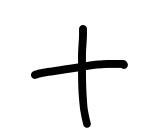plus: (31, 25, 128, 128)
